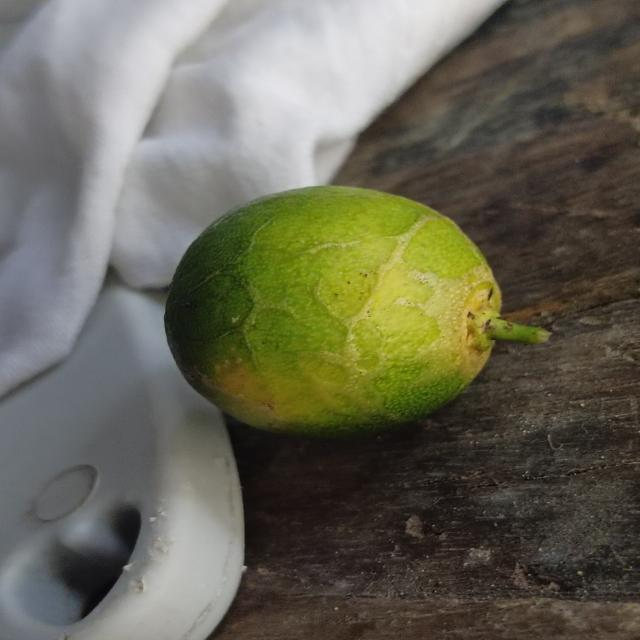thrips: (165, 183, 506, 433)
